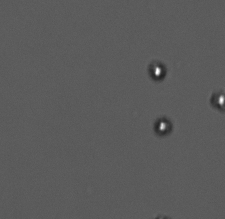Living Cell: (153, 117, 172, 136), (149, 61, 166, 81)
